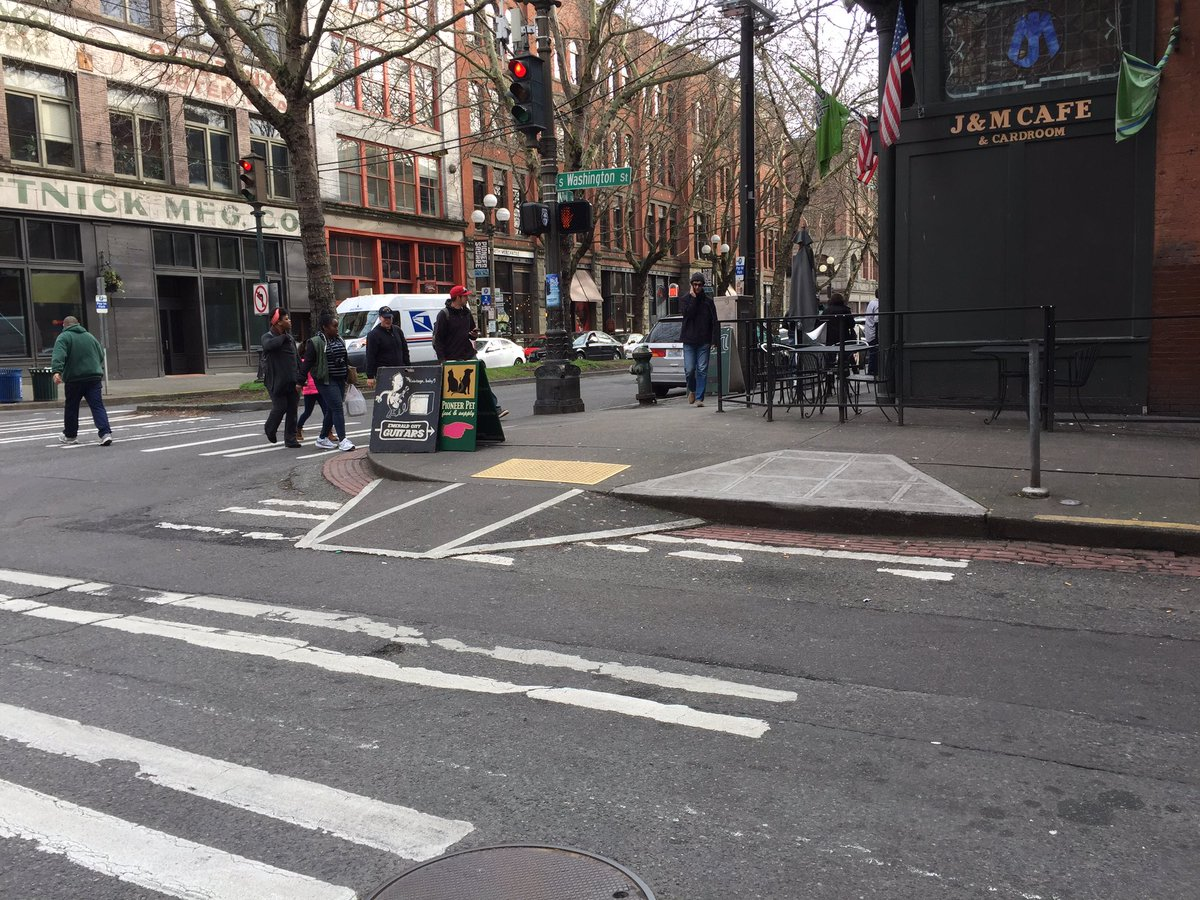ramp: (438, 446, 648, 528)
